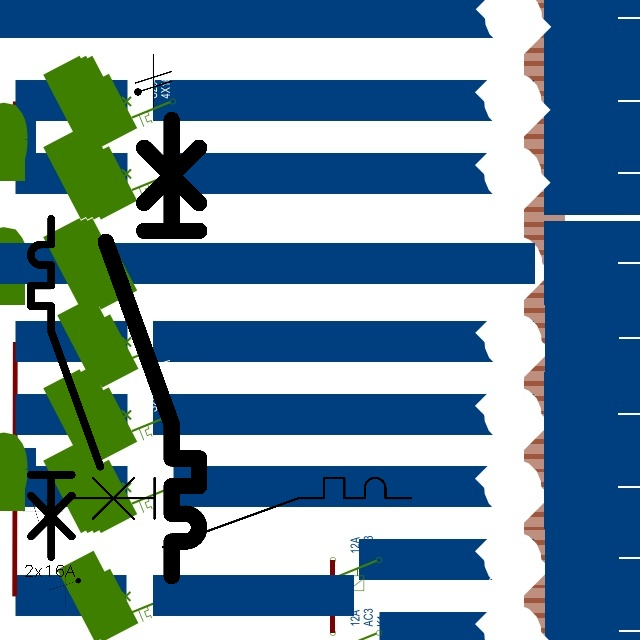interruptor_termomagnetico: (94, 108, 211, 588), (63, 469, 420, 556), (22, 210, 109, 566)
